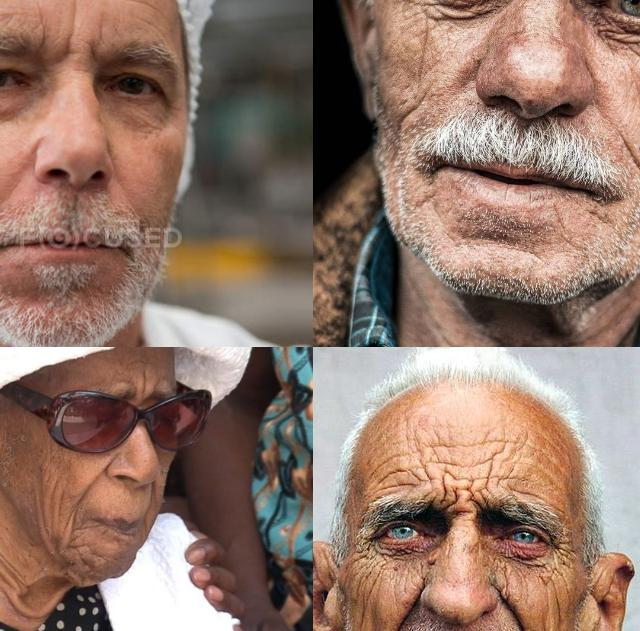bunny_line: (492, 561, 514, 595), (418, 561, 432, 585)
crows_feet: (357, 534, 378, 564), (554, 537, 572, 567)
forehead: (482, 430, 524, 482), (418, 440, 452, 478), (373, 456, 411, 490), (63, 0, 82, 27), (122, 0, 155, 13)
frown_line: (439, 487, 483, 510), (88, 26, 106, 62), (57, 32, 77, 60), (32, 21, 48, 47), (135, 368, 151, 394)
gummy_smile: (78, 462, 105, 504), (617, 132, 640, 180), (501, 600, 536, 631), (388, 592, 414, 631), (140, 484, 156, 521)
masseter: (392, 96, 426, 136), (356, 579, 373, 631), (34, 476, 51, 524)
sad_smile: (65, 516, 83, 558)
